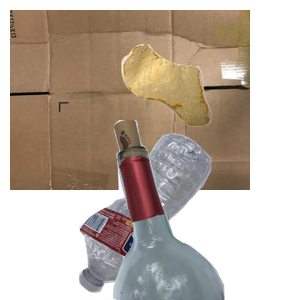cardboard: (10, 10, 250, 190)
glass: (89, 120, 300, 300)
plastic: (76, 131, 280, 300)
trash: (119, 42, 300, 161)
